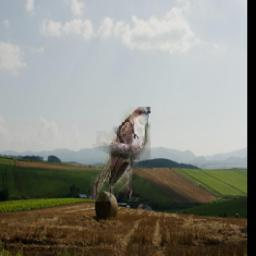Cuckoo: (85, 108, 151, 203)
